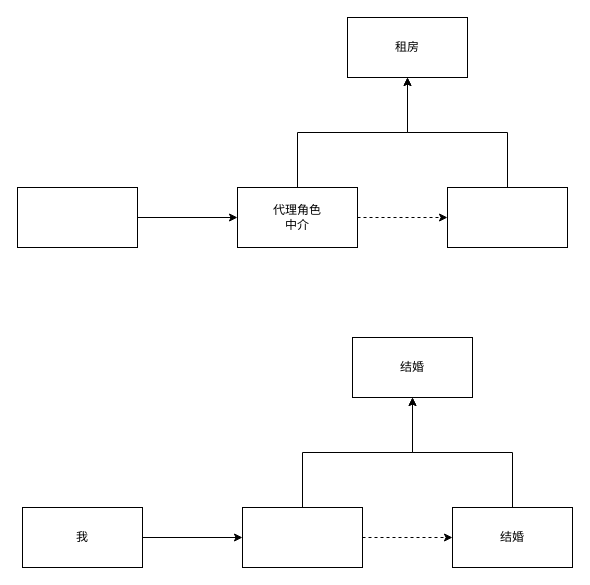
Image size: 590x585. Some labels were removed from this diagram. Here are the shapes that lost their labels. From the top down, the centre of each, then its label:
At (x=77, y=217): "真实的人，租房的人".
At (x=507, y=217): "真是的角色 房东".
At (x=302, y=537): "代理角色 结婚办理的公司".
